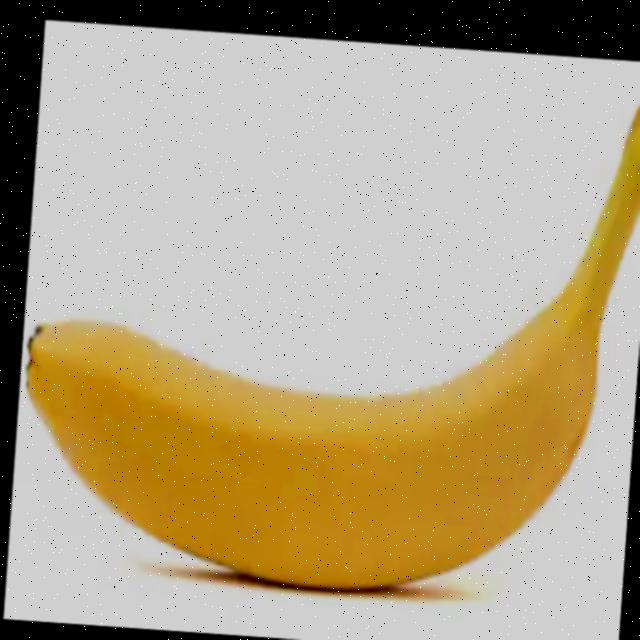Ripe: (5, 40, 640, 622)
